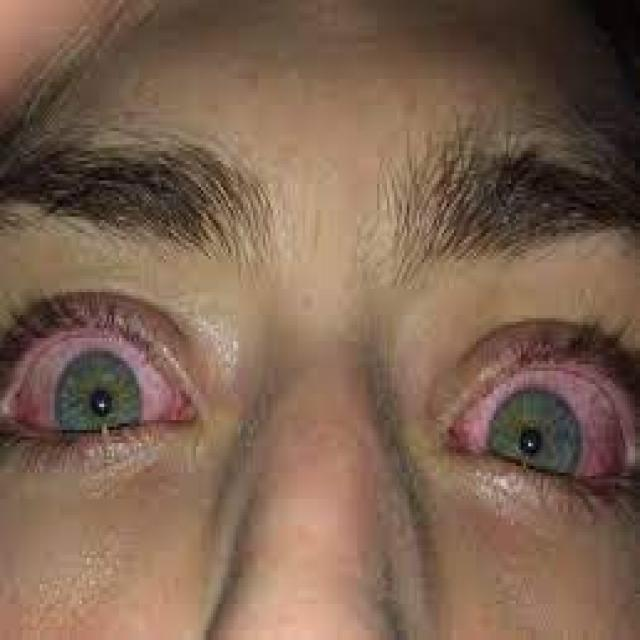eye: (424, 315, 640, 525), (0, 291, 206, 477)
gaze: (484, 379, 589, 492), (48, 346, 147, 454)
